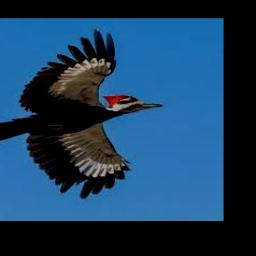Woodpecker: (0, 27, 163, 199)
